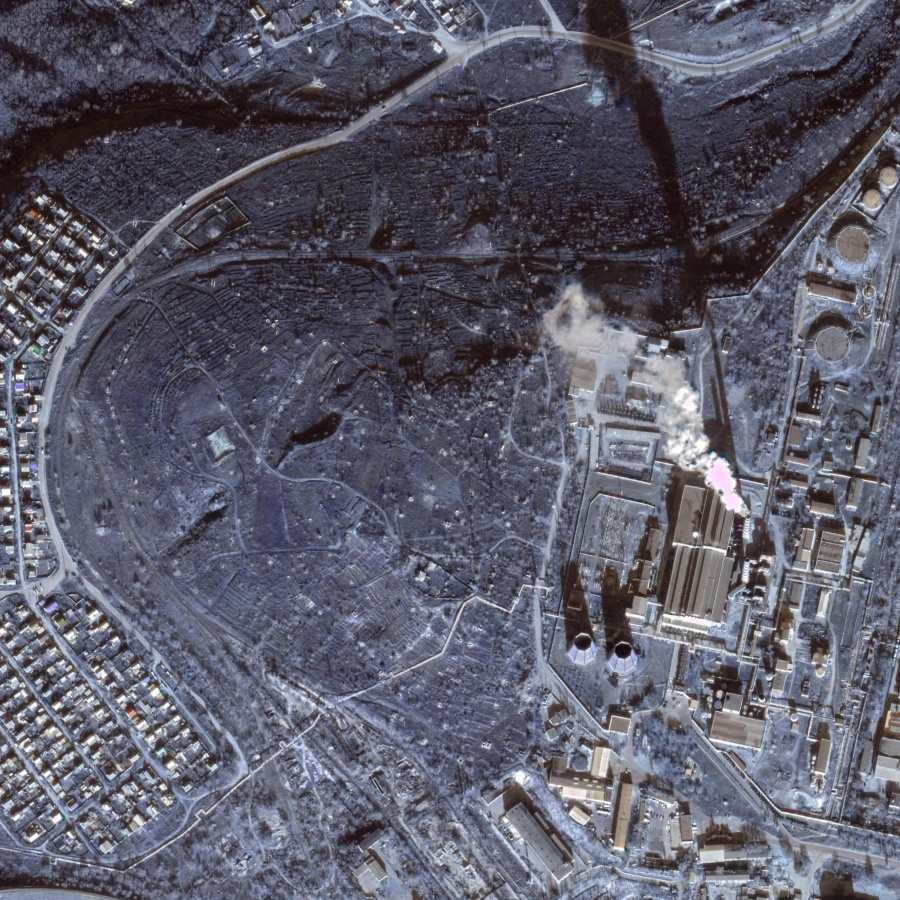PowerPlant: (554, 426, 777, 687)
